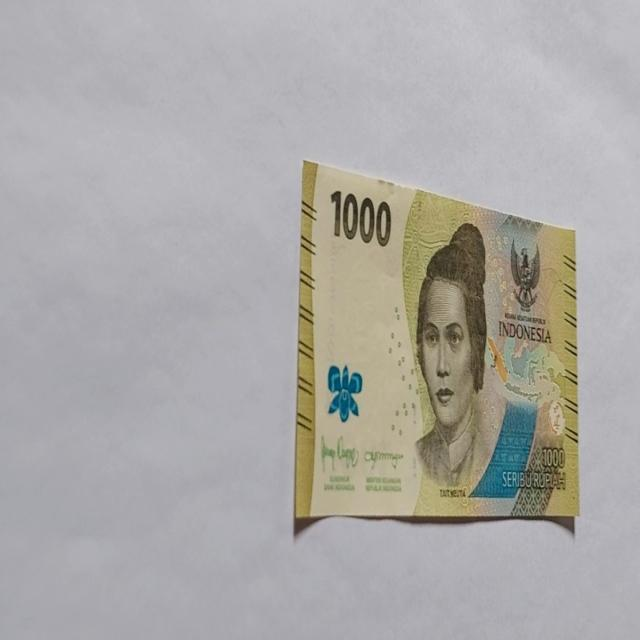seribu rupiah kertas: (294, 158, 578, 526)
